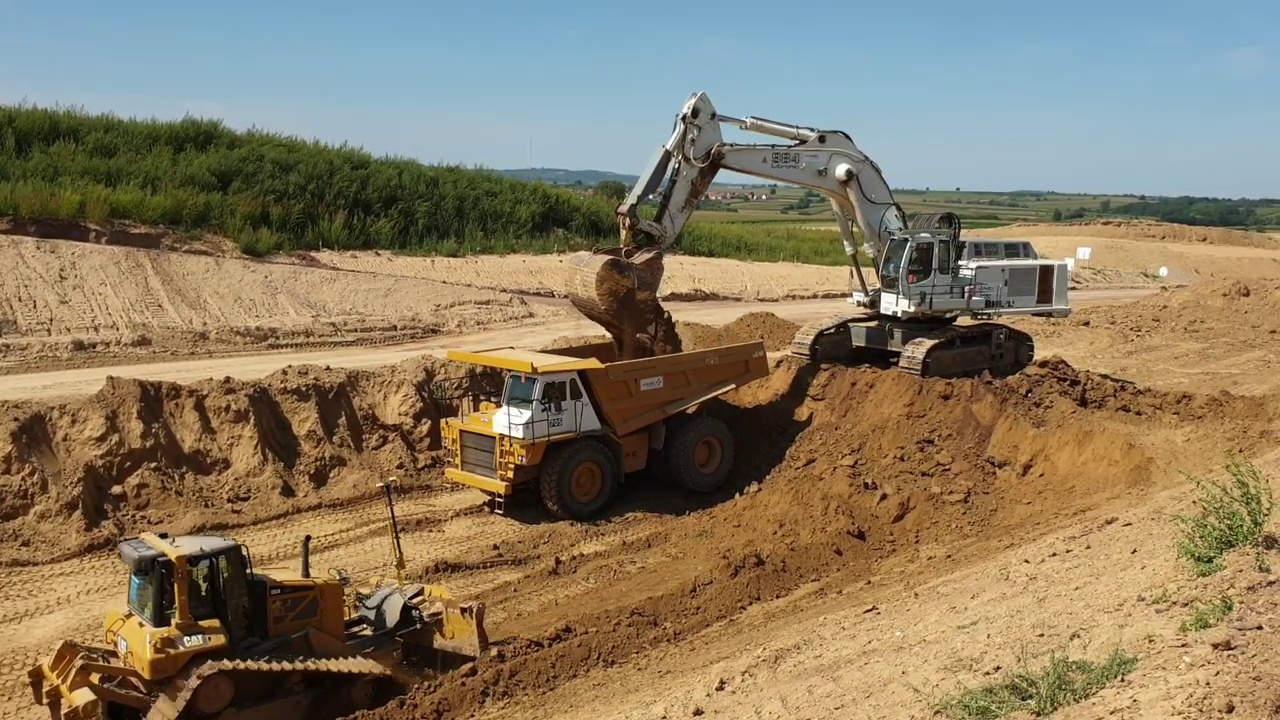bulldozer: (26, 533, 504, 719)
dumper: (437, 339, 772, 514)
excavator: (567, 90, 1074, 382)
